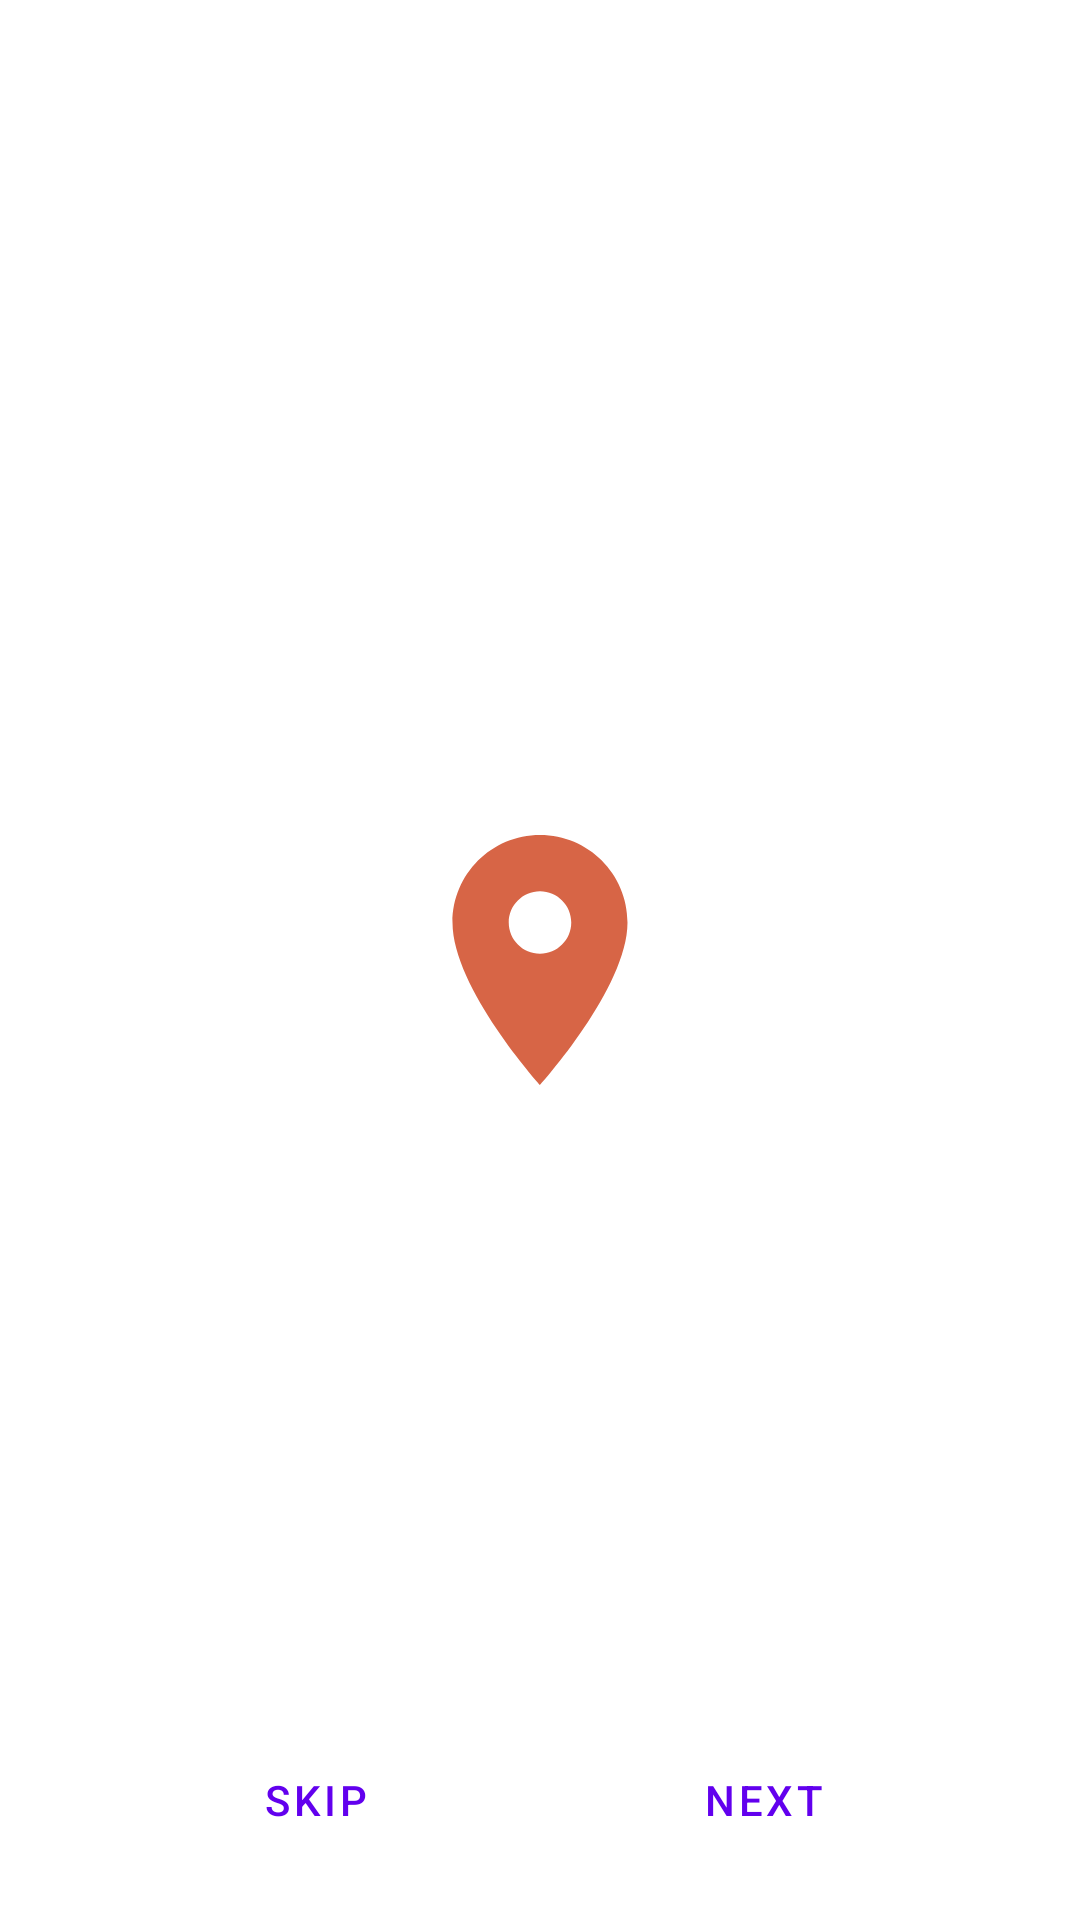

Point at icon controls on the screen. Image size 1080*1920, points as point (x, y).
location on: point (540, 960)
